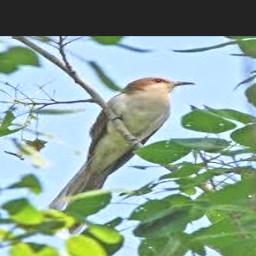Cuckoo: (46, 77, 196, 233)
